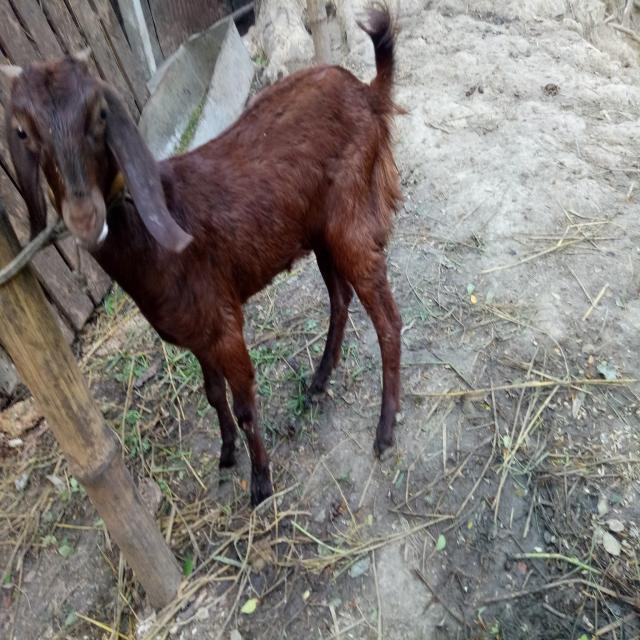Goat: (0, 0, 409, 508)
